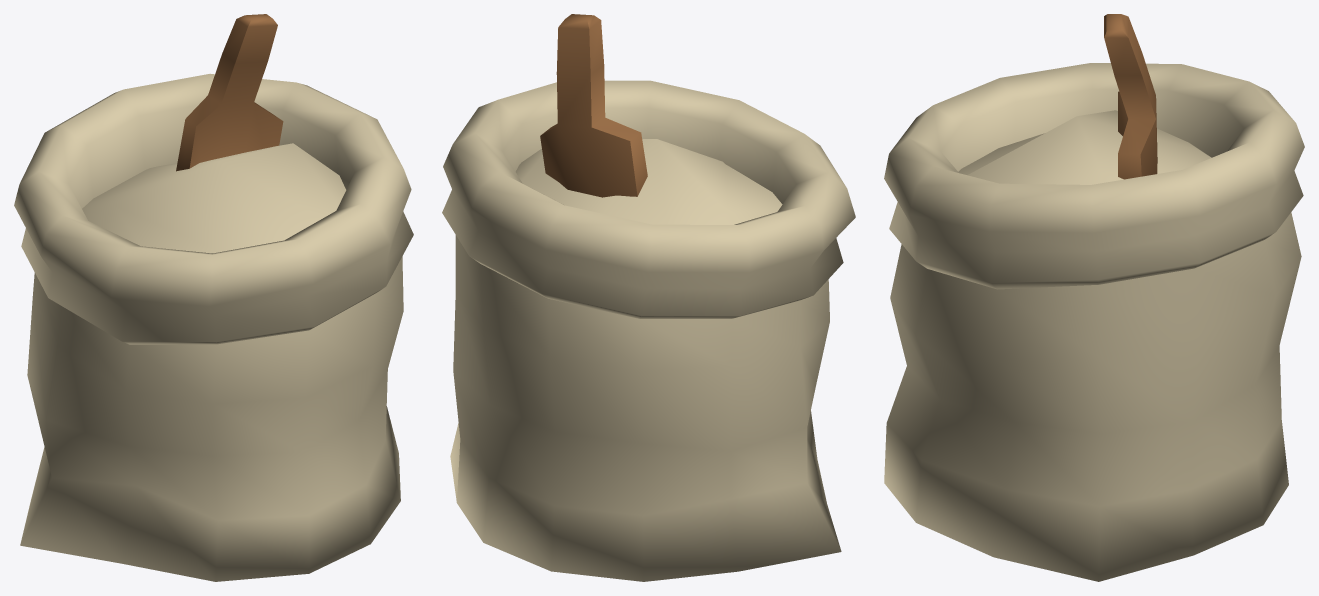
The model's file is RiceSack.fbx.
The picture shows the model from 3 angles, left to right: view 1: azimuth 30°, elevation 25°; view 2: azimuth 150°, elevation 25°; view 3: azimuth 270°, elevation 25°; orthographic projection. The views are drawn at different scales.
Visible parts, largest first — view 1: RiceSack; view 2: RiceSack; view 3: RiceSack.
Part boxes in pixels (bbox=[...]): RiceSack: bbox=[14, 14, 413, 581]; RiceSack: bbox=[442, 14, 855, 581]; RiceSack: bbox=[884, 14, 1304, 581].
Bounding box in the file's own units: 102 × 120 × 92.68.
